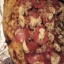pizza: (4, 1, 63, 64)
